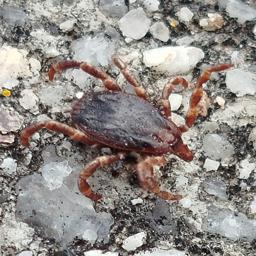Rhipicephalus sanguineus: (19, 62, 236, 202)
